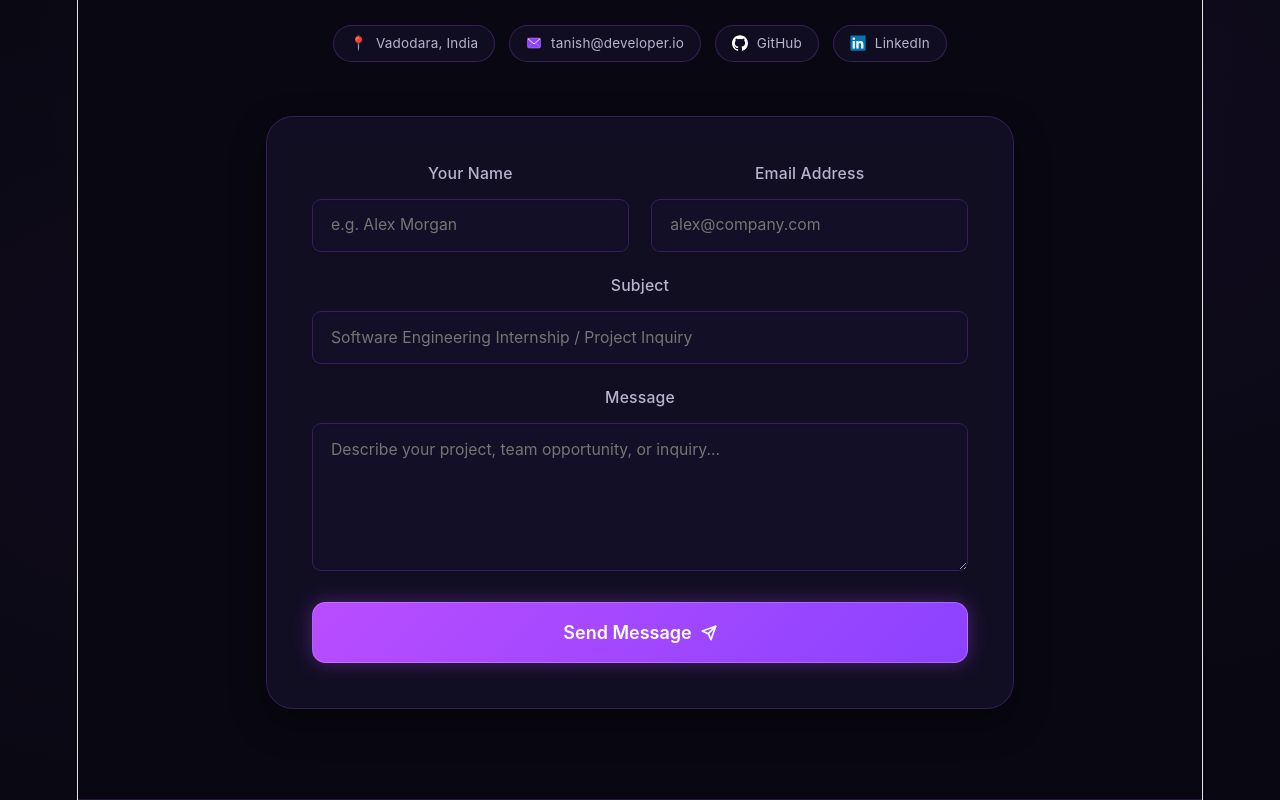
ContactSection Component (src/components/portfolio/ContactSection.jsx) › 1. Contact form validation: rejects short/empty inputs before submitting
The image size is (1280, 800).
(page scrolled)
What coordinates should you click on to do the following:
click the button "Send Message"
I would click on:
 (640, 633)
Its box is [312,602,968,663].
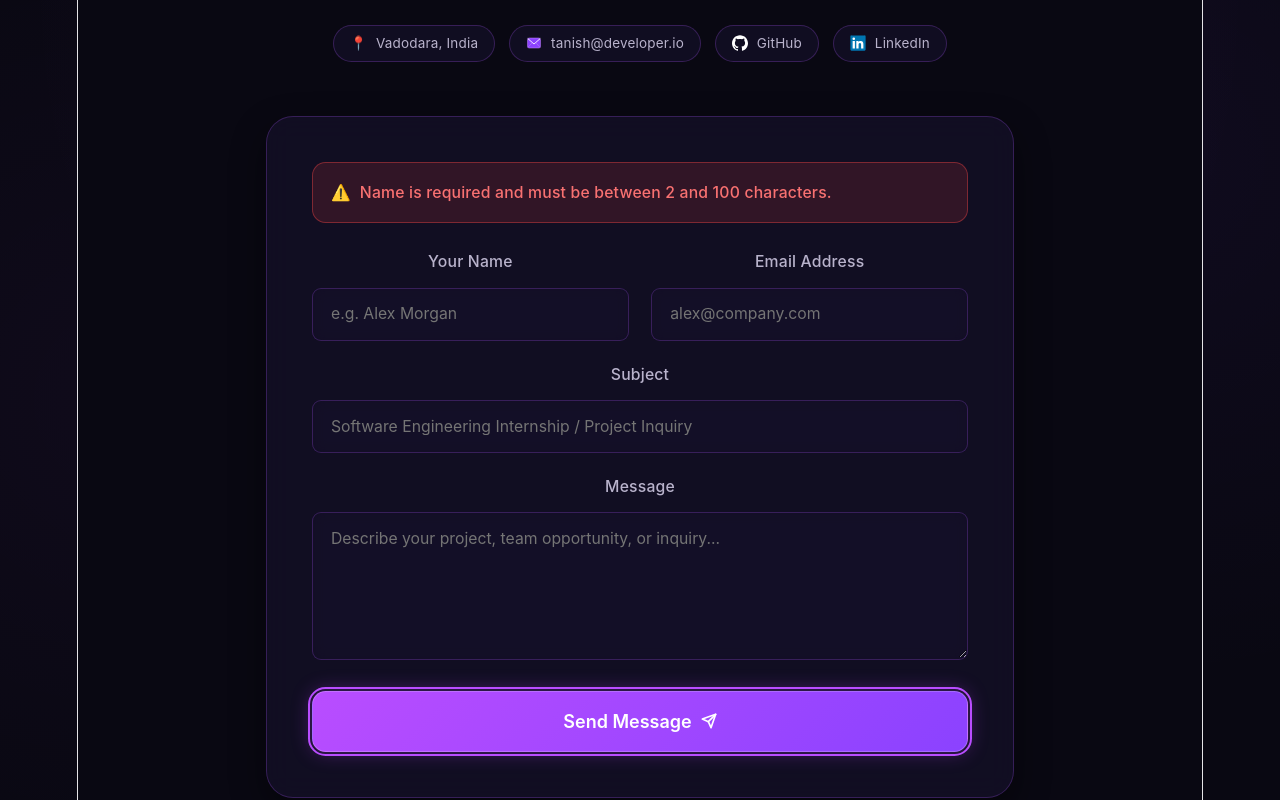
expect the message shows "Name is required": met, box [360,183,832,202]
